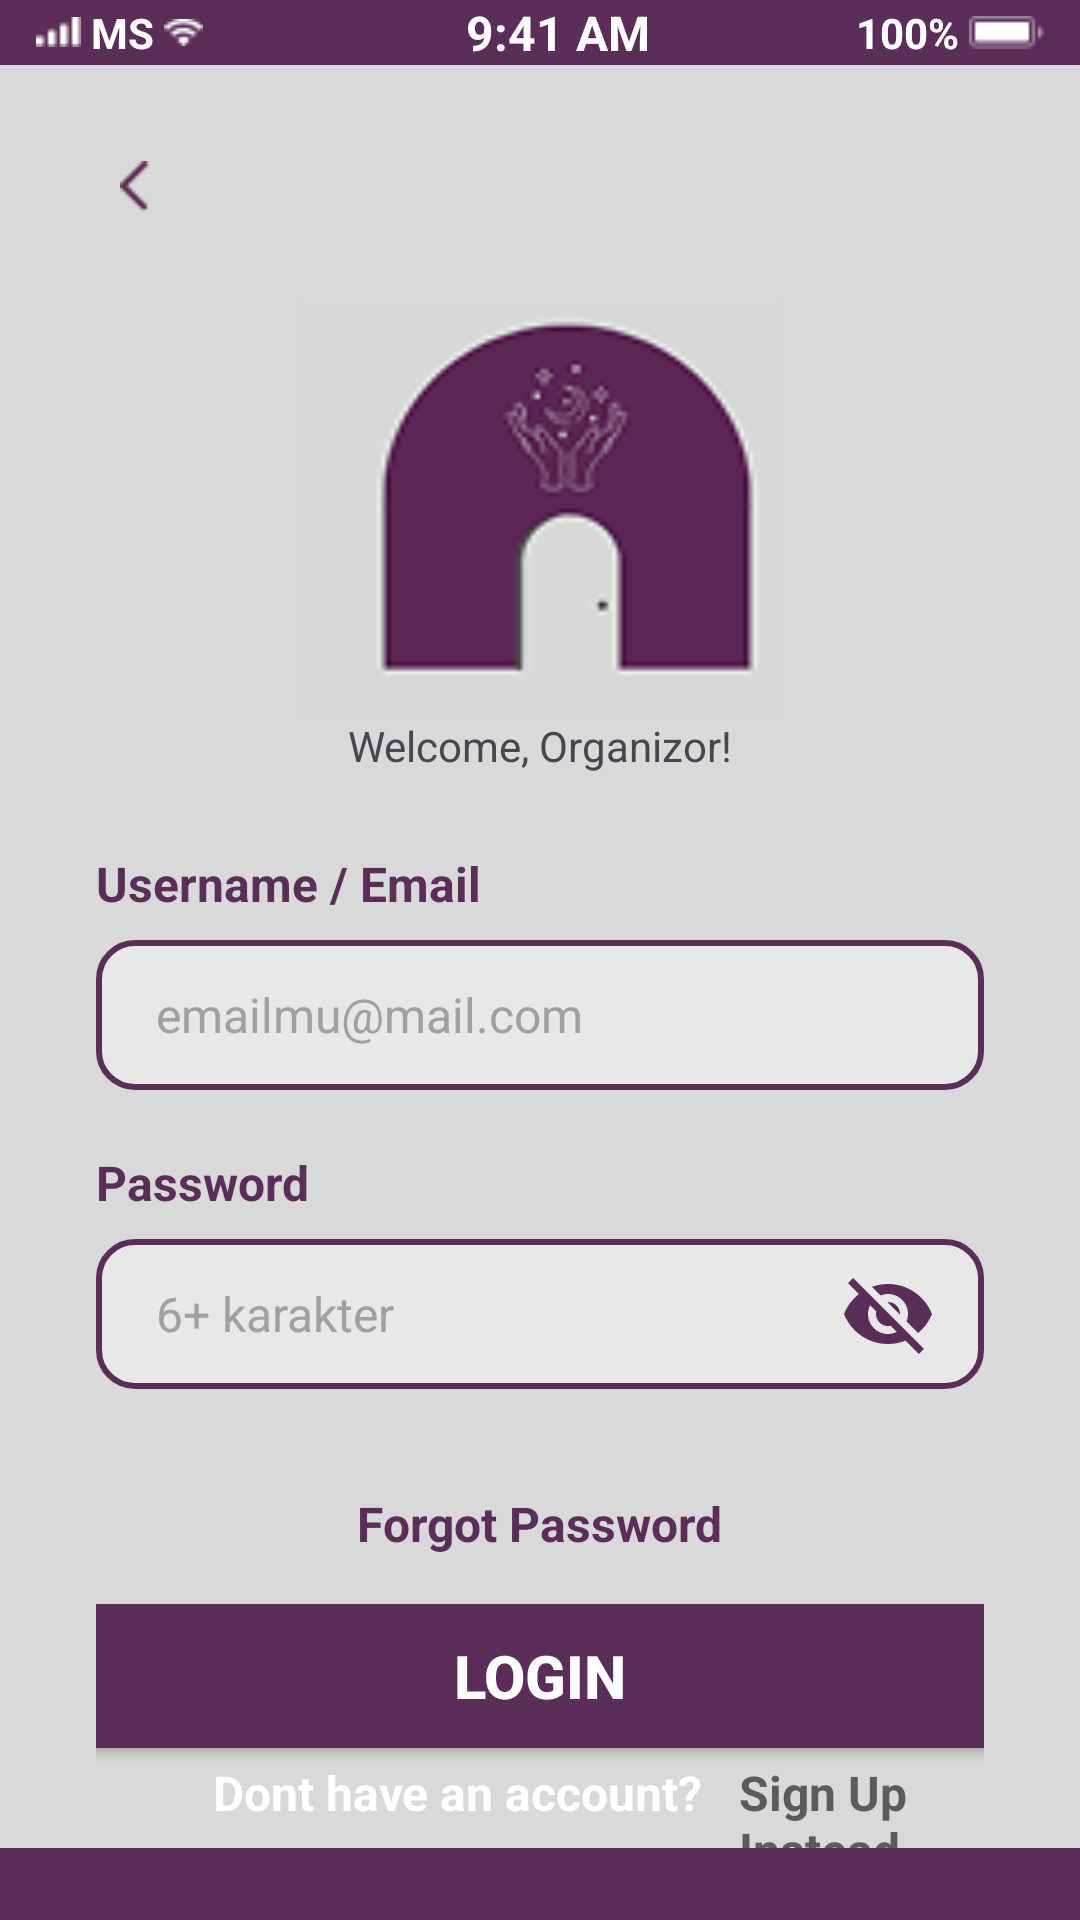

Where icons sit on this 1080×1920 app screen, as (x1,y1,x2,y2):
battery: (969,16,1044,49)
chevronleft: (120,161,148,210)
mobilesignal: (36,17,81,47)
Toggle Password Visibility: (844,1278,932,1354)
wifi: (164,19,203,46)
